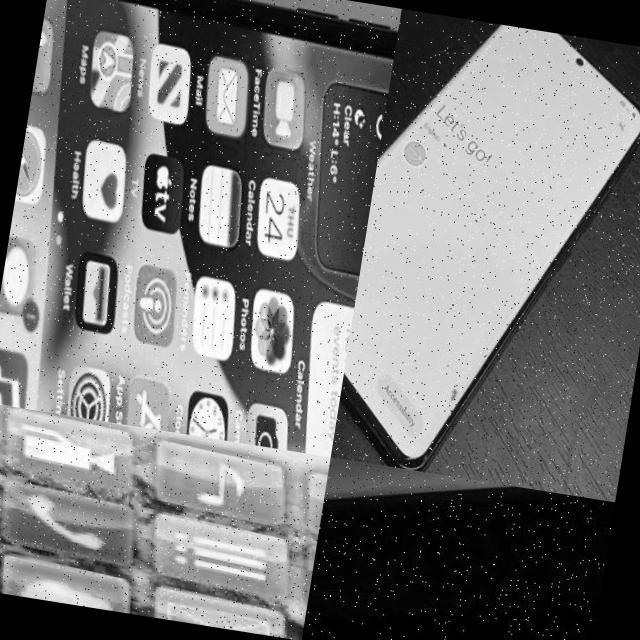dead pixel: (420, 368, 468, 422)
